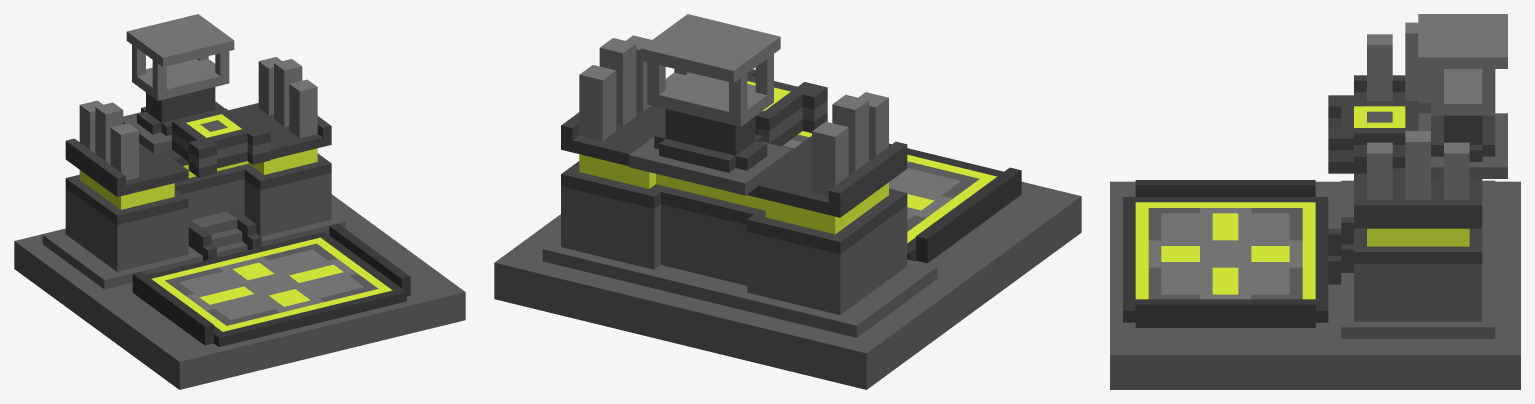
File: _g_airport-1.obj
The picture shows the model from 3 angles, left to right: view 1: azimuth 30°, elevation 25°; view 2: azimuth 150°, elevation 25°; view 3: azimuth 270°, elevation 25°; orthographic projection. The views are drawn at different scales.
Size of the model in its own units: 3.2 by 2.3 by 3.2.
